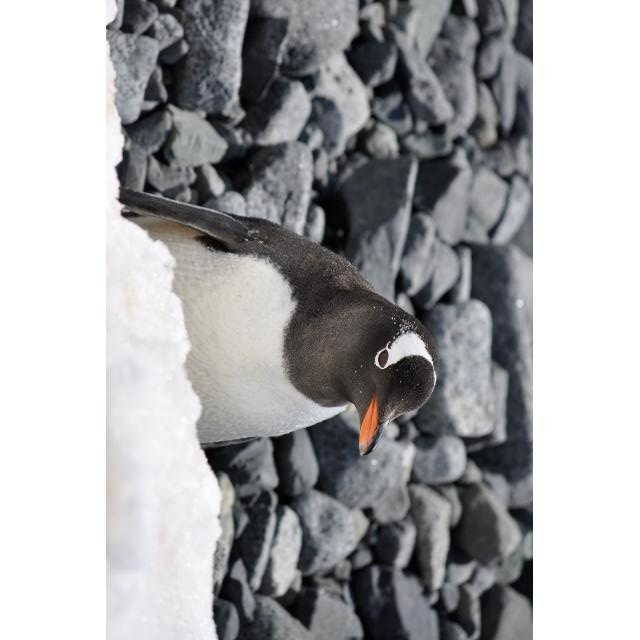penguin: (119, 187, 439, 457)
